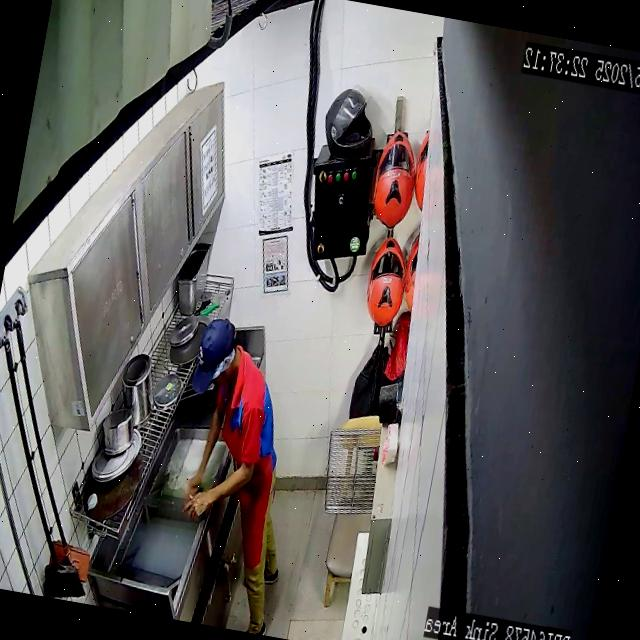no_helmet: (191, 317, 236, 394)
